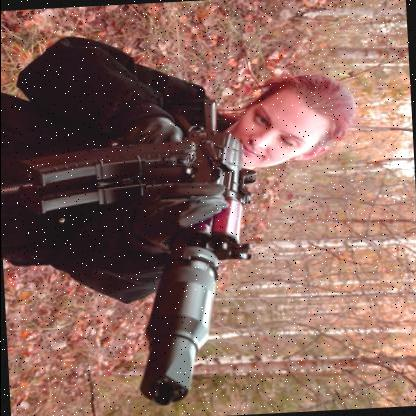rifle: (63, 89, 280, 413)
